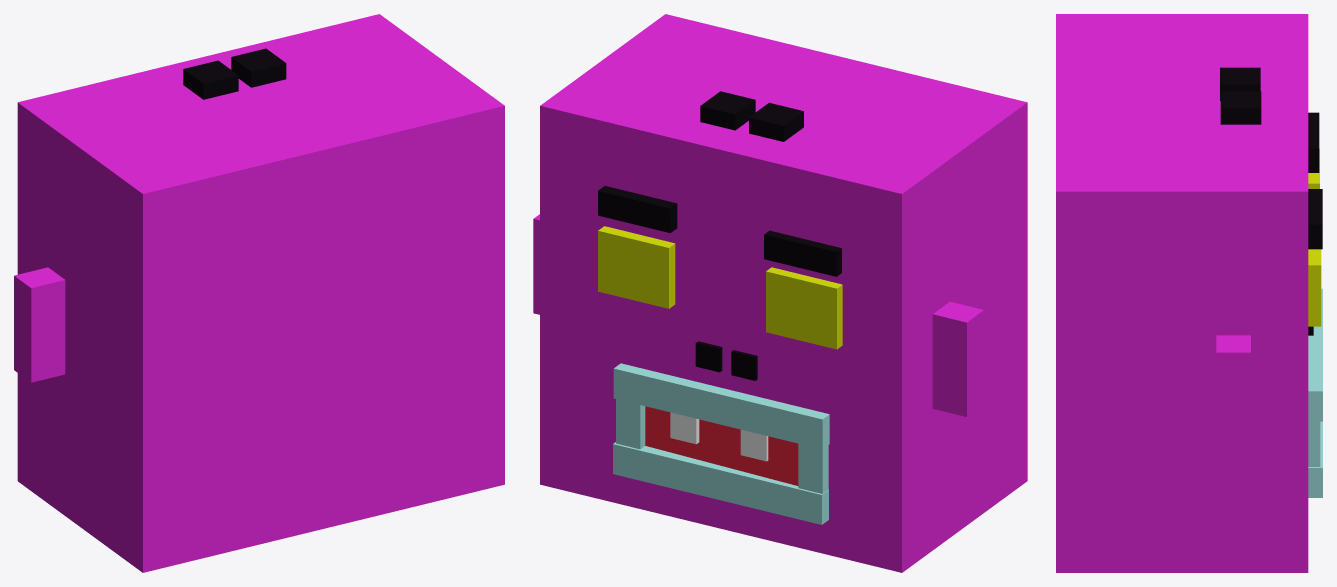
Rendered from zombie_morado_cortado_horizontal.fbx.
3 renders of one model, left to right at view 1: azimuth 30°, elevation 25°; view 2: azimuth 150°, elevation 25°; view 3: azimuth 270°, elevation 25°, orthographic.
Parts seen in each view (by area): view 1: Plano, Plano.001; view 2: Plano, Plano.001; view 3: Plano, Plano.001.
Boxes of the visible parts, <box> form: Plano: <box>14,14,504,386</box>; Plano.001: <box>14,301,504,572</box>; Plano: <box>533,14,1027,386</box>; Plano.001: <box>533,272,1027,572</box>; Plano: <box>1056,14,1322,405</box>; Plano.001: <box>1056,288,1322,572</box>.
Size of the model in its own units: 238 by 208 by 127.
